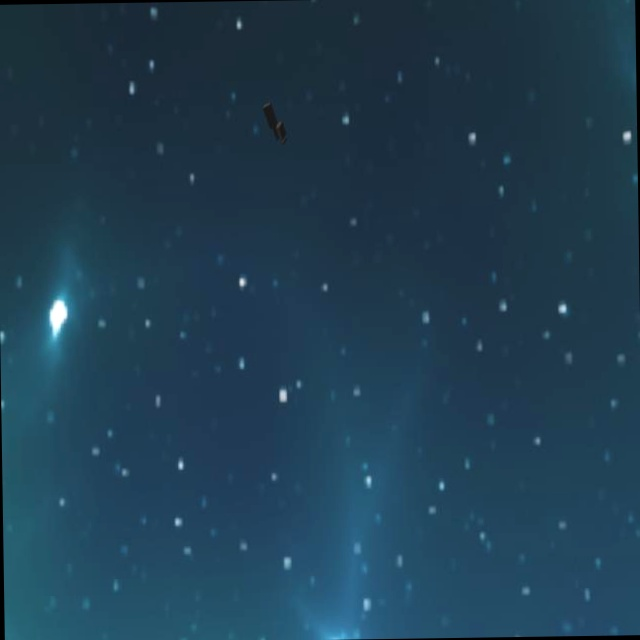large_debris: (259, 91, 290, 158)
